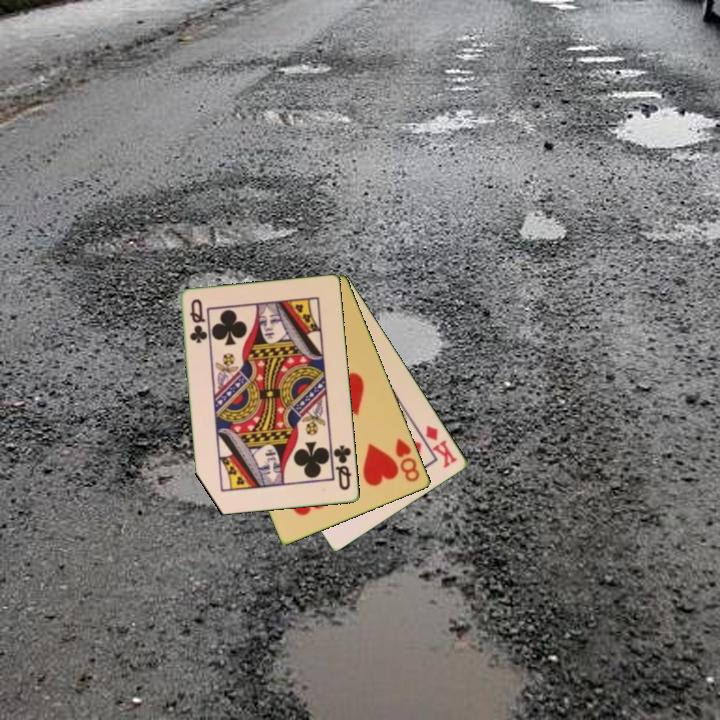8h: (392, 435, 423, 485)
Kd: (422, 422, 461, 471)
Qc: (330, 442, 355, 493), (187, 295, 209, 347)
